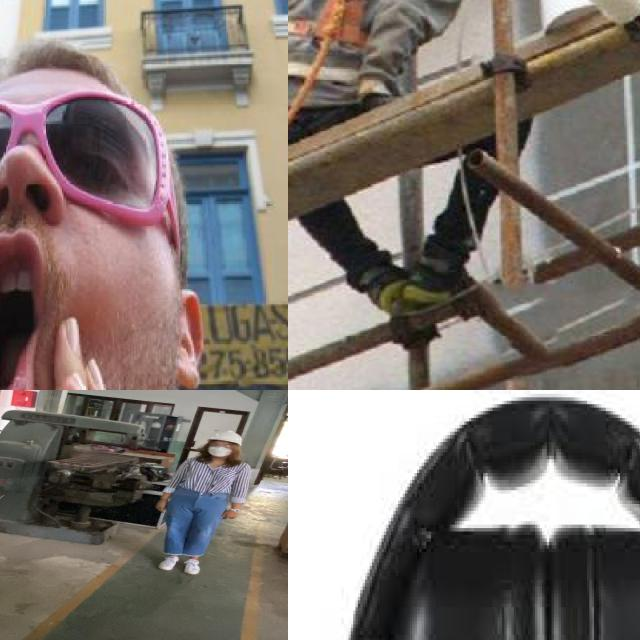Ear-protection: (360, 510, 544, 640)
Harness: (288, 0, 450, 54)
face_mask: (206, 441, 236, 457)
glasses: (0, 81, 175, 233), (205, 443, 234, 448)
hand_noglove: (218, 508, 241, 520), (152, 500, 170, 513)
head_helmet: (207, 430, 246, 444)
person: (150, 428, 264, 578)
shoes: (156, 554, 183, 573), (181, 556, 203, 575)
